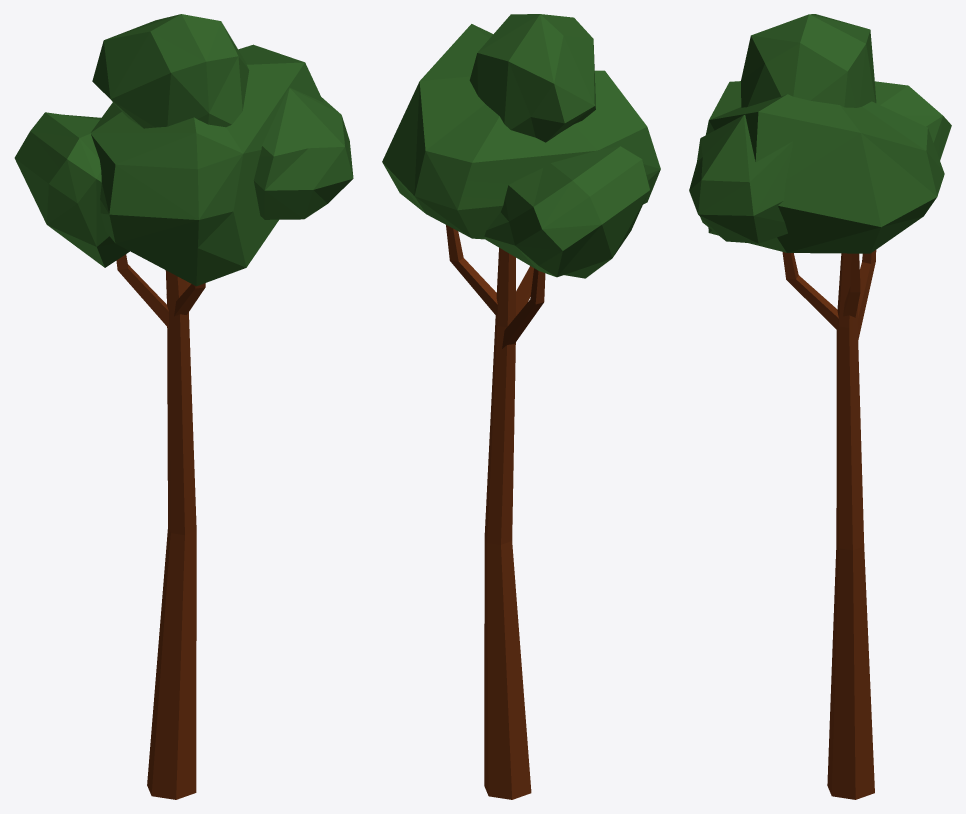
The model's file is TemperateTree_13.glb.
3 renders of one model, left to right at view 1: azimuth 30°, elevation 25°; view 2: azimuth 150°, elevation 25°; view 3: azimuth 270°, elevation 25°, orthographic. The views are drawn at different scales.
Visible parts, largest first — view 1: Tree_temp_climate_013; view 2: Tree_temp_climate_013; view 3: Tree_temp_climate_013.
Boxes of the visible parts, x1,y1,x2,y2 form: Tree_temp_climate_013: (14,14,353,799); Tree_temp_climate_013: (382,14,660,799); Tree_temp_climate_013: (689,14,951,799).
Bounding box in the file's own units: 2.25 × 6.48 × 2.
1 material, 1 textured.
